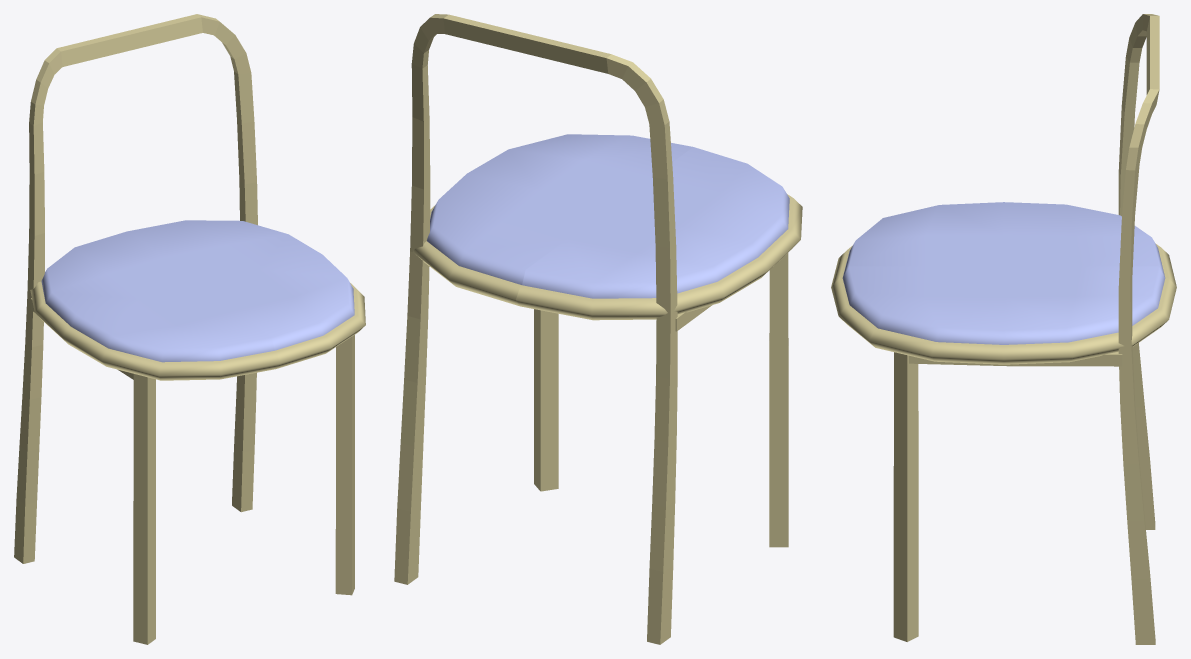
The picture shows the model from 3 angles, left to right: view 1: azimuth 30°, elevation 25°; view 2: azimuth 150°, elevation 25°; view 3: azimuth 270°, elevation 25°; orthographic projection. The views are drawn at different scales.
Parts seen in each view (by area): view 1: chair2; view 2: chair2; view 3: chair2.
Boxes of the visible parts, <box> form: chair2: <box>14,14,365,644</box>; chair2: <box>394,14,802,644</box>; chair2: <box>831,14,1176,644</box>.
Bounding box in the file's own units: 47.2 × 81.78 × 48.13.
